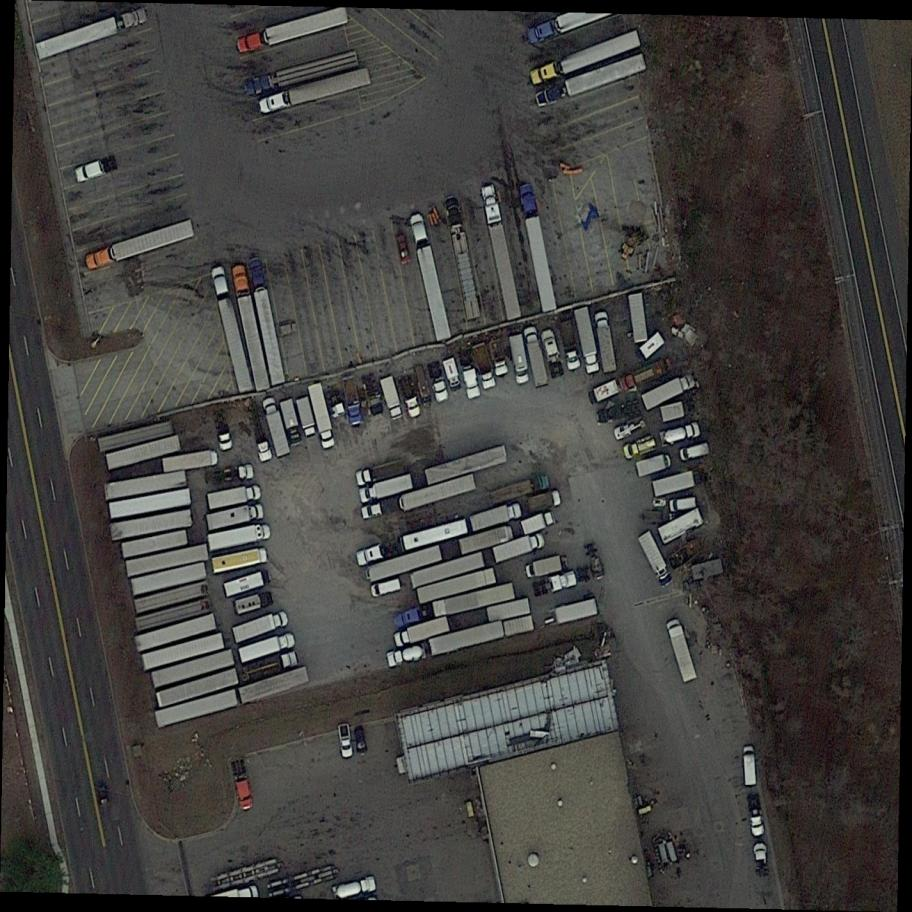large-vehicle: (529, 29, 644, 88), (534, 53, 648, 109), (382, 619, 506, 670), (83, 218, 197, 273), (35, 7, 150, 61), (392, 583, 518, 631), (479, 183, 522, 322), (258, 67, 373, 117), (244, 51, 360, 99), (210, 266, 253, 395), (409, 214, 452, 342), (519, 183, 558, 313), (247, 258, 286, 387), (232, 265, 271, 393), (443, 196, 482, 322), (397, 475, 477, 512), (636, 529, 677, 591), (398, 518, 469, 553), (640, 373, 698, 412), (665, 618, 699, 684), (307, 382, 338, 450), (489, 473, 551, 507), (231, 610, 290, 645), (574, 307, 603, 375), (238, 633, 296, 666), (393, 616, 451, 648), (492, 531, 547, 564), (261, 399, 291, 459), (207, 523, 271, 551), (457, 526, 515, 556), (358, 474, 414, 504), (523, 326, 549, 389), (206, 504, 264, 532), (211, 547, 269, 574), (469, 503, 523, 532), (207, 485, 262, 511), (222, 570, 271, 599), (355, 459, 407, 486), (595, 313, 617, 374), (162, 451, 219, 473), (471, 343, 497, 390), (279, 399, 304, 447), (560, 317, 582, 371), (342, 375, 365, 426), (379, 376, 404, 421), (509, 334, 531, 385), (234, 591, 274, 616), (427, 361, 450, 403), (634, 453, 672, 478), (525, 556, 564, 579), (296, 397, 317, 439), (527, 490, 563, 514), (521, 512, 555, 535), (741, 745, 757, 787)
small-vehicle: (658, 419, 703, 448), (621, 432, 660, 462), (72, 157, 110, 184), (488, 338, 511, 378), (234, 777, 258, 813), (440, 357, 463, 392), (460, 364, 481, 402), (369, 577, 404, 599), (677, 440, 712, 461), (394, 232, 414, 267), (337, 722, 355, 758), (93, 783, 112, 816), (353, 724, 369, 755), (670, 495, 699, 512)
